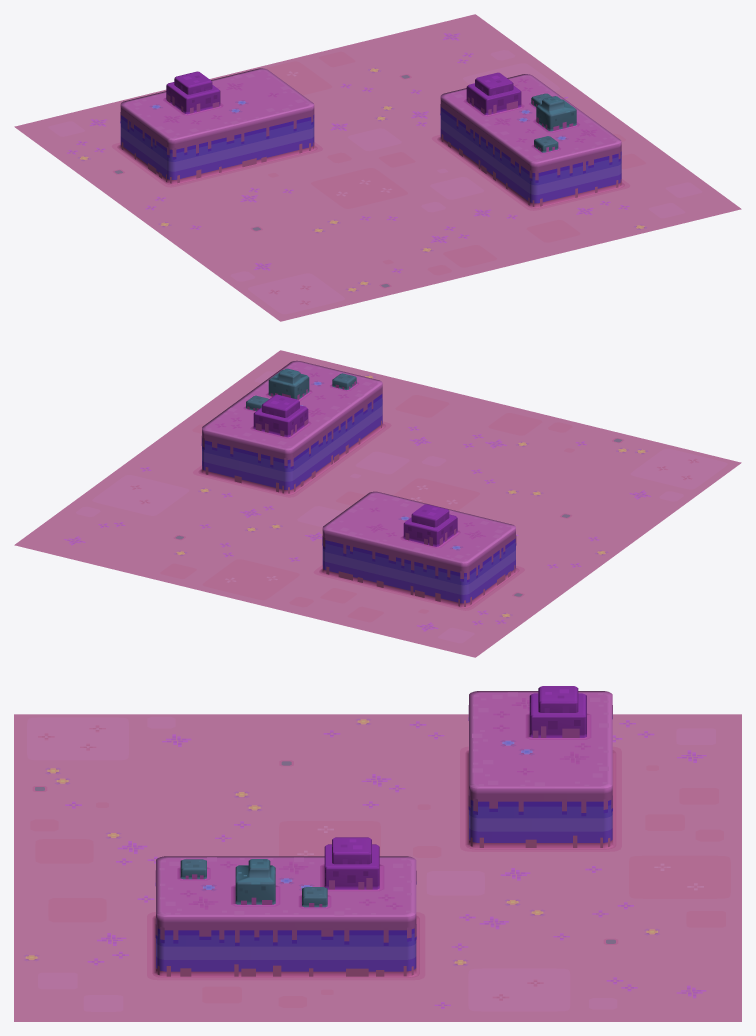
File: C_forest2_04.fbx
3 views of the same model, one above another, from view 1: azimuth 30°, elevation 25°; view 2: azimuth 150°, elevation 25°; view 3: azimuth 270°, elevation 25° (orthographic). The views are drawn at different scales.
Parts seen in each view (by area): view 1: C_forest2_04; view 2: C_forest2_04; view 3: C_forest2_04.
Part boxes in pixels (x1,y1,x2,y2): C_forest2_04: (14, 14, 741, 321); C_forest2_04: (14, 350, 741, 657); C_forest2_04: (14, 686, 741, 1021).
Size of the model in its own units: 50 by 7.23 by 50.
